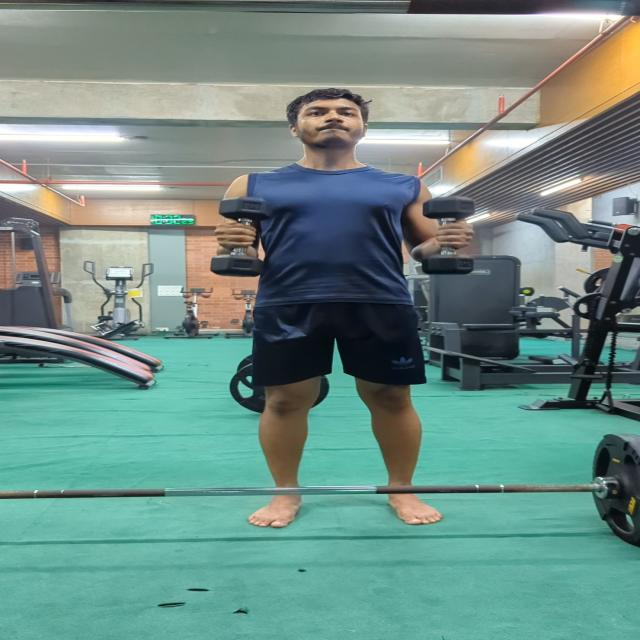Normal_DumbbellBicepCurls: (198, 81, 492, 540)
